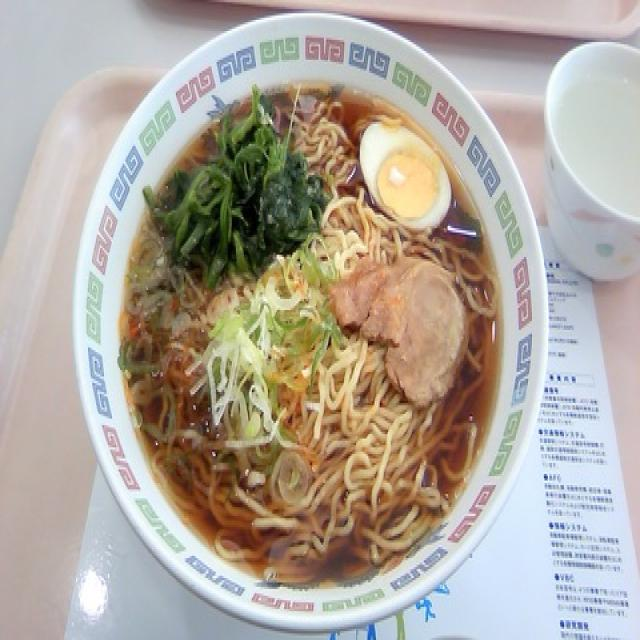面条主食: (70, 6, 550, 626)
